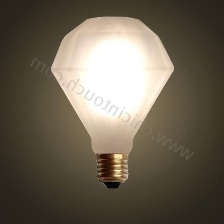light_bulb: (46, 12, 176, 190)
